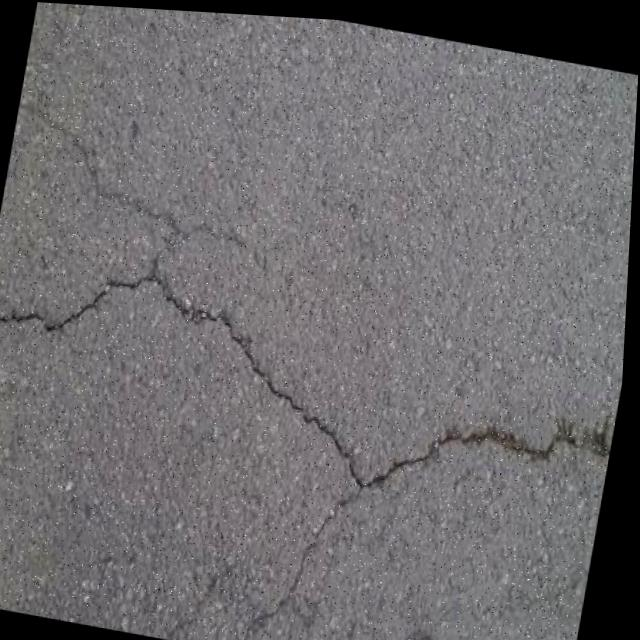Crack: (0, 236, 630, 544), (11, 87, 291, 275), (216, 487, 355, 640)
